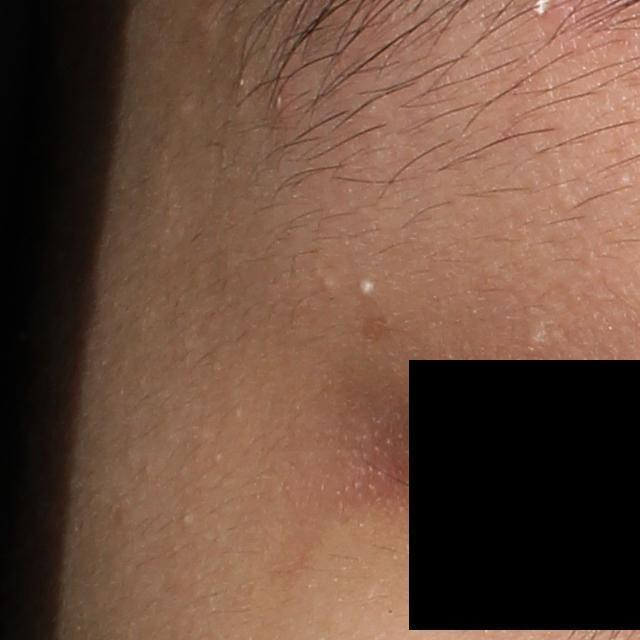other: (356, 278, 374, 295)
